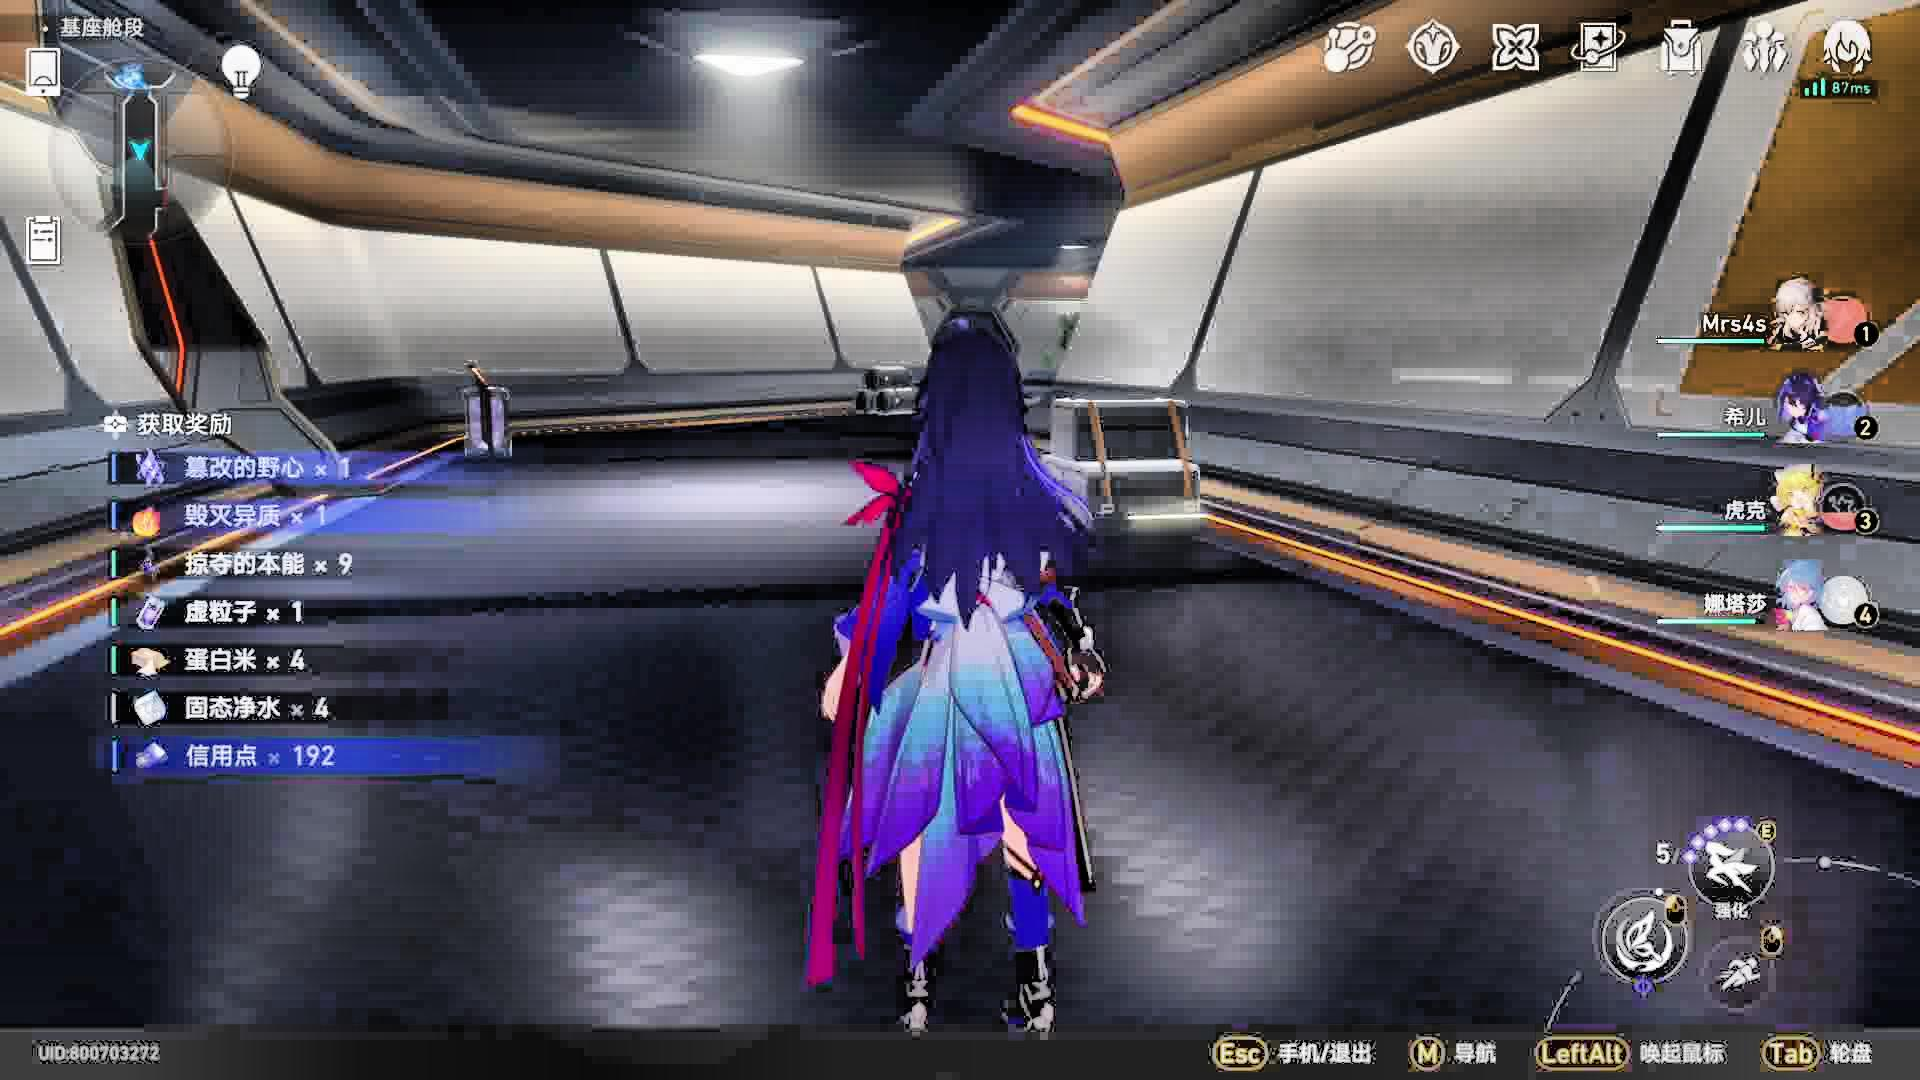Box: (1036, 390, 1199, 524), (851, 356, 918, 417)
Self: (815, 328, 1105, 1038)
